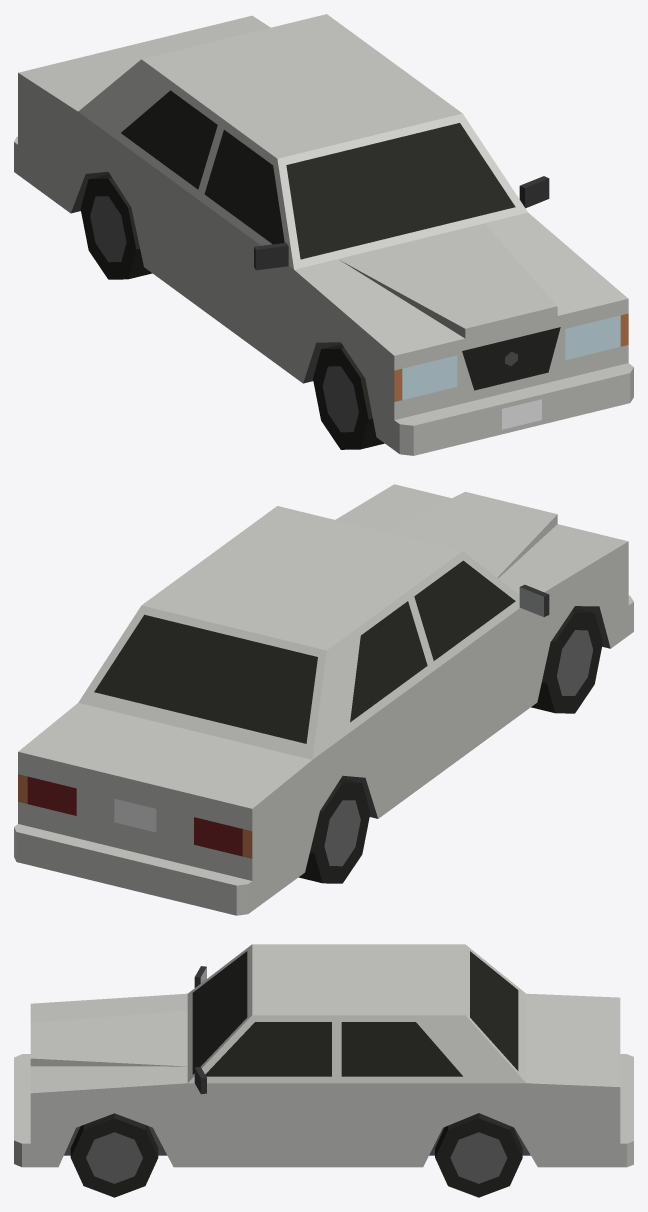
The model's file is Veh_Sedan_02_White.glb.
3 views of the same model, one above another, from view 1: azimuth 30°, elevation 25°; view 2: azimuth 150°, elevation 25°; view 3: azimuth 270°, elevation 25° (orthographic). The views are drawn at different scales.
Parts seen in each view (by area): view 1: Sedan_02_White, Wheel_FR, Wheel_RR; view 2: Sedan_02_White, Wheel_FR, Wheel_RR; view 3: Sedan_02_White, Wheel_FL, Wheel_RL.
Boxes of the visible parts, x1,y1,x2,y2 form: Sedan_02_White: (14,14,633,455); Wheel_FR: (313,344,384,449); Wheel_RR: (80,174,152,279); Sedan_02_White: (14,484,633,915); Wheel_FR: (531,608,602,713); Wheel_RR: (298,778,370,883); Sedan_02_White: (14,944,633,1167); Wheel_FL: (70,1113,158,1197); Wheel_RL: (435,1113,522,1197).
Size of the model in its own units: 1.16 by 0.8379 by 2.72.
1 material, 1 textured.
